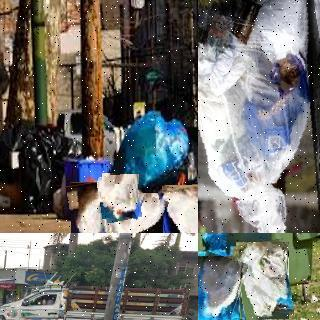Garbage: (198, 0, 320, 233), (109, 104, 188, 184), (233, 240, 291, 320), (198, 253, 244, 320), (68, 180, 117, 233), (111, 190, 166, 233), (100, 172, 140, 222), (160, 183, 198, 233)
